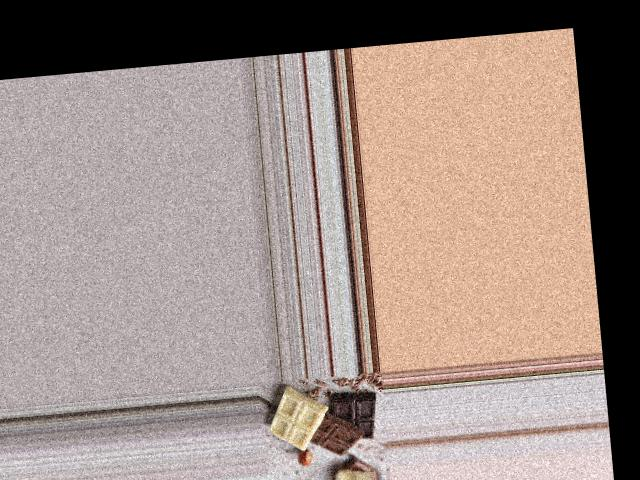chocolate: (266, 384, 386, 462)
